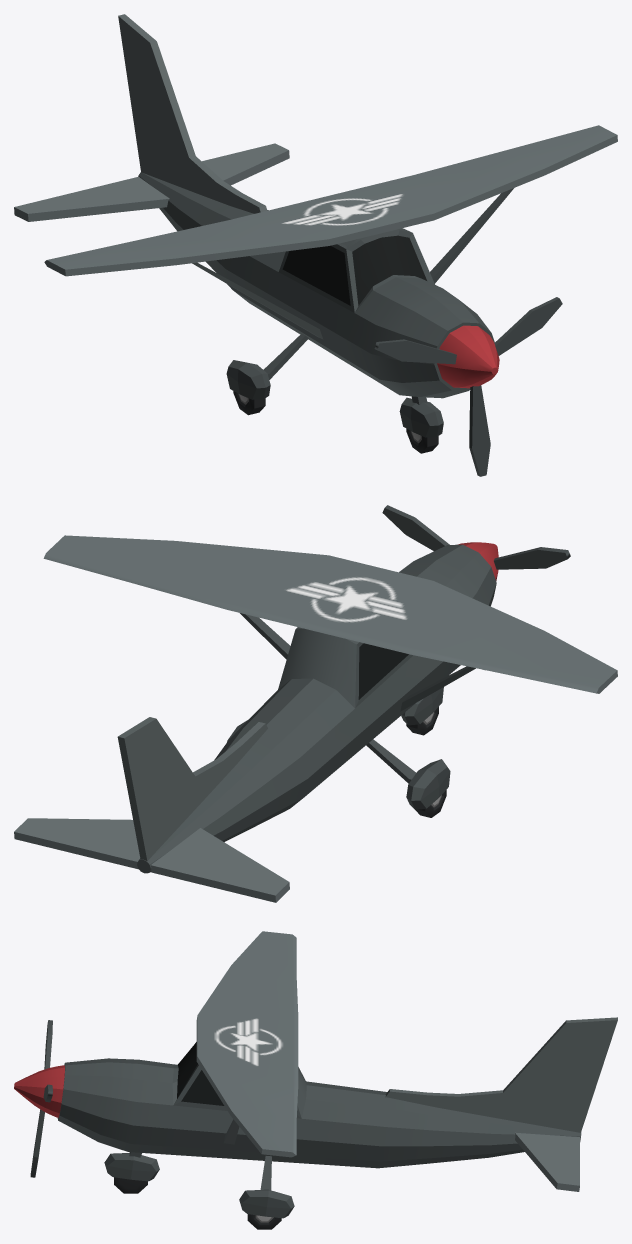
Rendered from Attack_Plane_1.FBX.
3 views of the same model, one above another, from view 1: azimuth 30°, elevation 25°; view 2: azimuth 150°, elevation 25°; view 3: azimuth 270°, elevation 25° (orthographic). The views are drawn at different scales.
Parts seen in each view (by area): view 1: Attack_Plane_1; view 2: Attack_Plane_1; view 3: Attack_Plane_1.
Part boxes in pixels (box(x1,y1,x2,y2)): Attack_Plane_1: box(14, 14, 617, 476); Attack_Plane_1: box(14, 505, 617, 902); Attack_Plane_1: box(14, 931, 617, 1229).
Size of the model in its own units: 12.75 by 4.72 by 14.93.
1 material, 1 textured.
